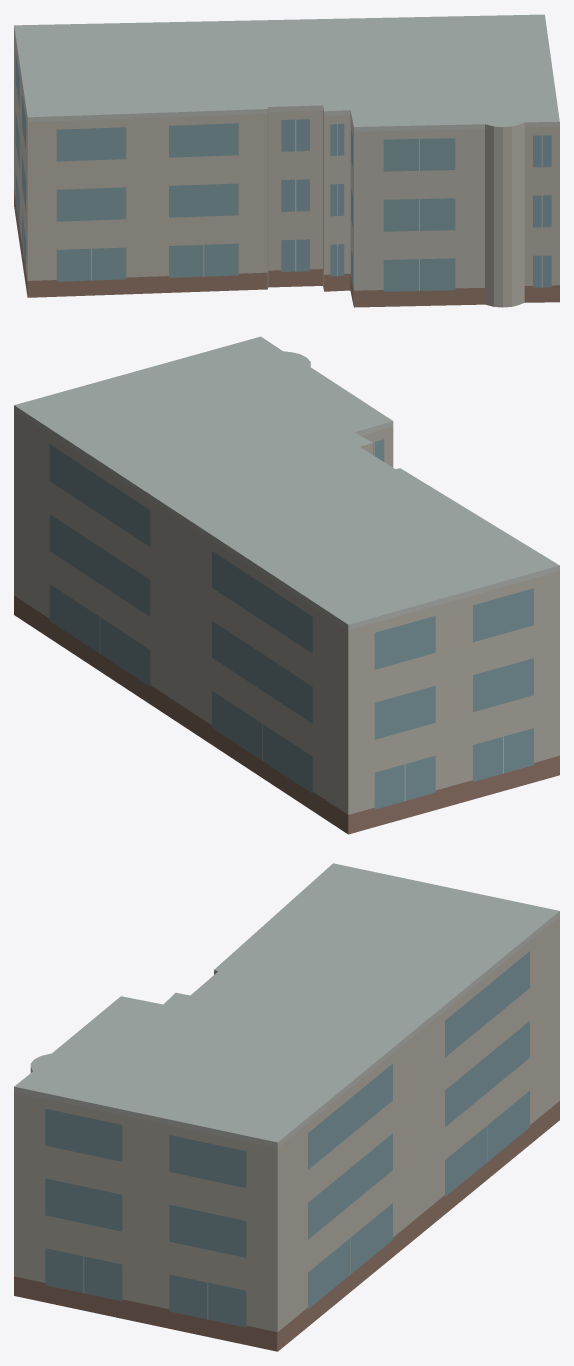
Rendered from survey-upis-32581406.glb.
3 views of the same model, one above another, from view 1: azimuth 30°, elevation 25°; view 2: azimuth 150°, elevation 25°; view 3: azimuth 270°, elevation 25° (orthographic). The views are drawn at different scales.
Visible parts, largest first — view 1: survey-upis-32581406.tmp; view 2: survey-upis-32581406.tmp; view 3: survey-upis-32581406.tmp.
Boxes of the visible parts, x1=… form: survey-upis-32581406.tmp: x1=14, y1=14, x2=559, y2=307; survey-upis-32581406.tmp: x1=14, y1=336, x2=559, y2=834; survey-upis-32581406.tmp: x1=14, y1=863, x2=559, y2=1351.
Bounding box in the file's own units: 26.2 × 9.15 × 21.64.
